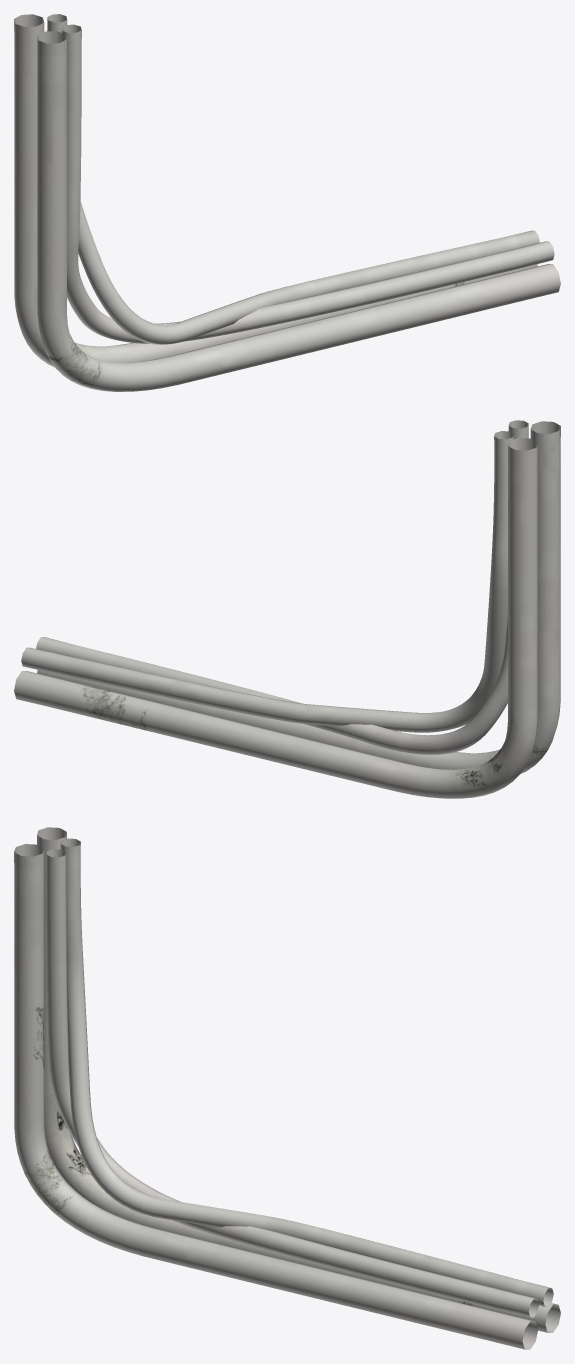
The model's file is WireUp.fbx.
3 renders of one model, top to bottom at view 1: azimuth 30°, elevation 25°; view 2: azimuth 150°, elevation 25°; view 3: azimuth 330°, elevation 25°, orthographic.
Parts seen in each view (by area): view 1: TurnUp; view 2: TurnUp; view 3: TurnUp.
Part boxes in pixels (left/top/right/bottom): TurnUp: left=14, top=14, right=560, bottom=391; TurnUp: left=14, top=420, right=560, bottom=798; TurnUp: left=14, top=827, right=560, bottom=1349.
Size of the model in its own units: 200 by 140 by 26.32.
Materials: 1 (1 with a texture image).
